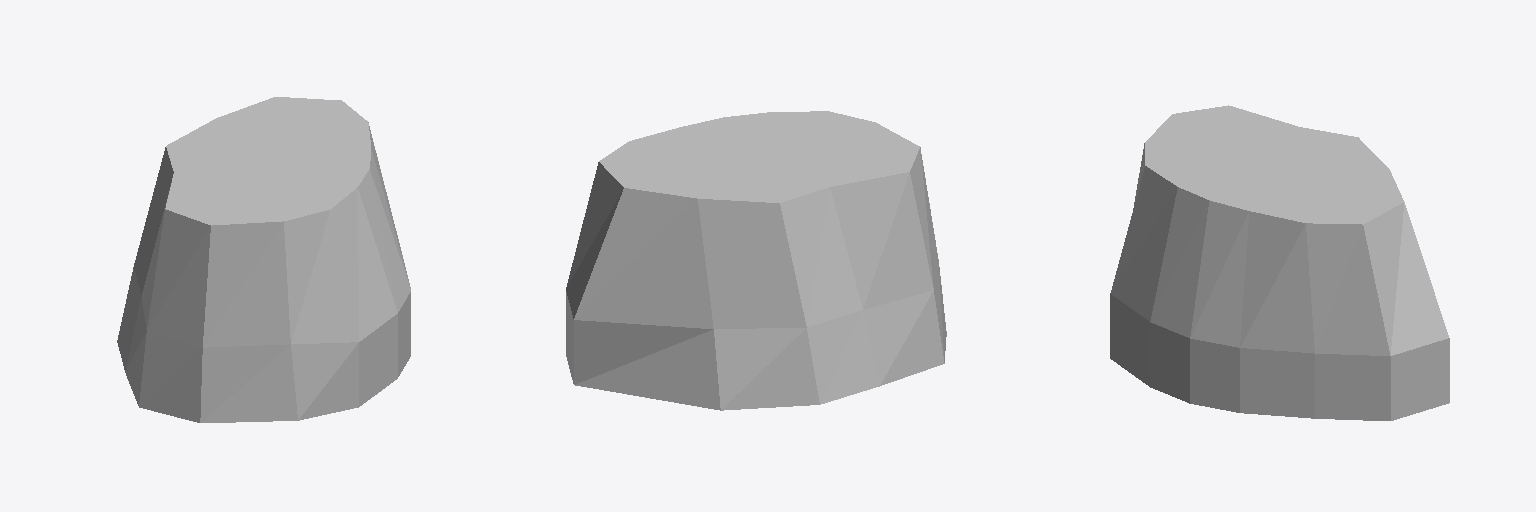
File: Rock3.obj
The picture shows the model from 3 angles: view 1: azimuth 30°, elevation 25°; view 2: azimuth 150°, elevation 25°; view 3: azimuth 270°, elevation 25°; orthographic projection.
Parts seen in each view (by area): view 1: Rock3; view 2: Rock3; view 3: Rock3.
Part boxes in pixels (bbox=[...]): Rock3: bbox=[117, 97, 410, 422]; Rock3: bbox=[566, 111, 946, 410]; Rock3: bbox=[1110, 105, 1449, 420].
Bounding box in the file's own units: 12.76 × 7.79 × 12.77.